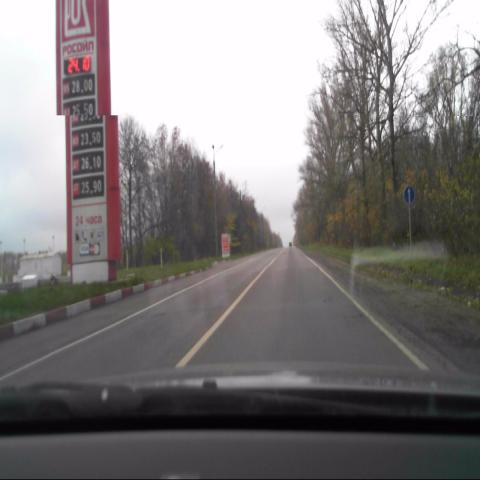4_1_1: (404, 186, 414, 204)
